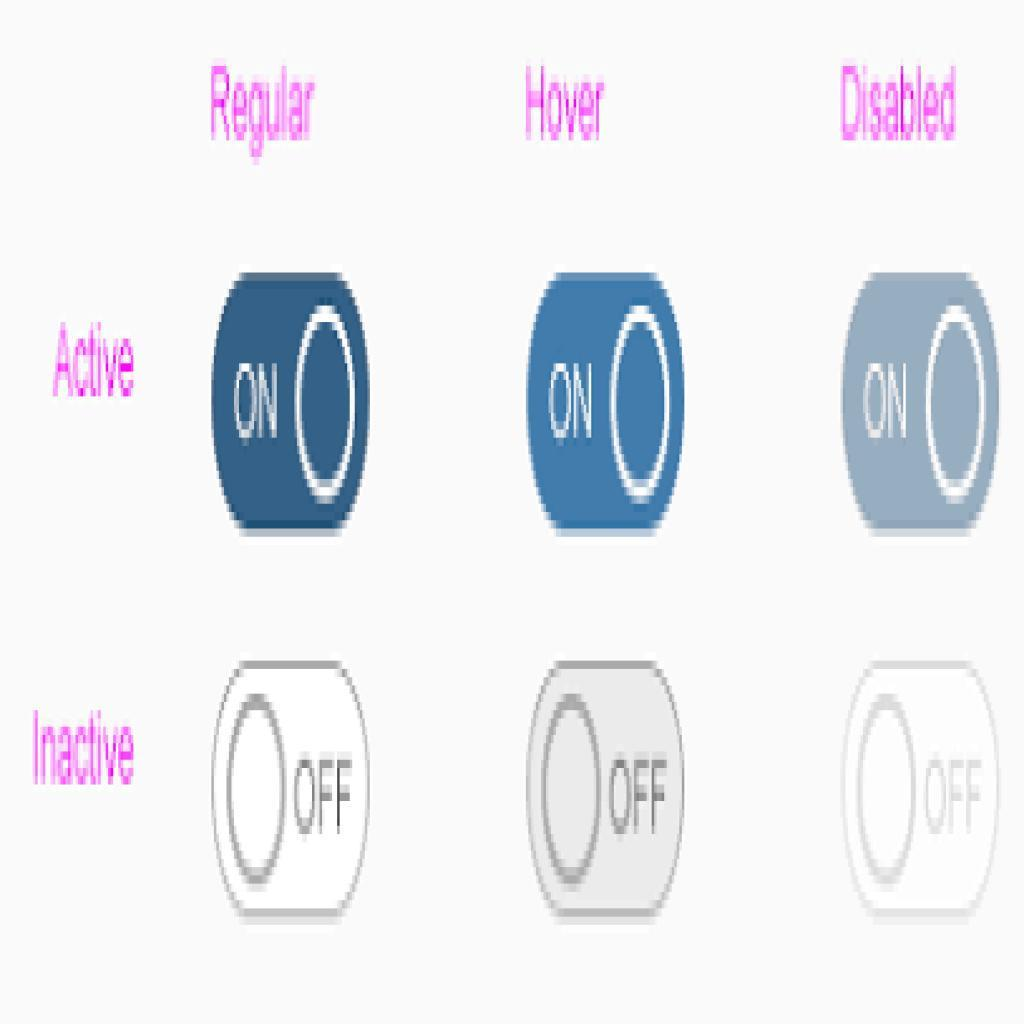switch: (210, 660, 375, 927), (839, 660, 1004, 924), (840, 273, 1000, 535), (529, 275, 687, 536), (214, 276, 371, 537), (527, 663, 683, 923)
